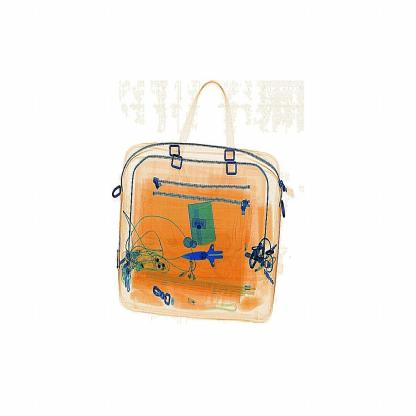gun: (182, 228, 242, 284)
